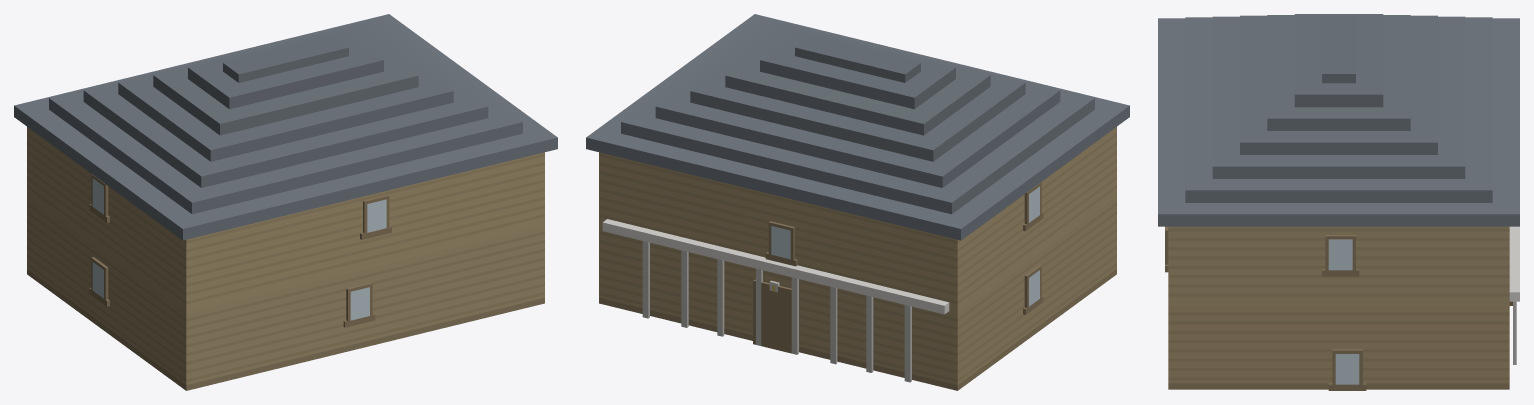
The model's file is teatro_01.glb.
3 renders of one model, left to right at view 1: azimuth 30°, elevation 25°; view 2: azimuth 150°, elevation 25°; view 3: azimuth 270°, elevation 25°, orthographic. The views are drawn at different scales.
Visible parts, largest first — view 1: teatro_01; view 2: teatro_01; view 3: teatro_01.
Boxes of the visible parts, left/top/right/bottom form: teatro_01: left=14, top=14, right=557, bottom=390; teatro_01: left=586, top=14, right=1129, bottom=390; teatro_01: left=1158, top=14, right=1519, bottom=390.
Bounding box in the file's own units: 13.6 × 8.1 × 10.6.
